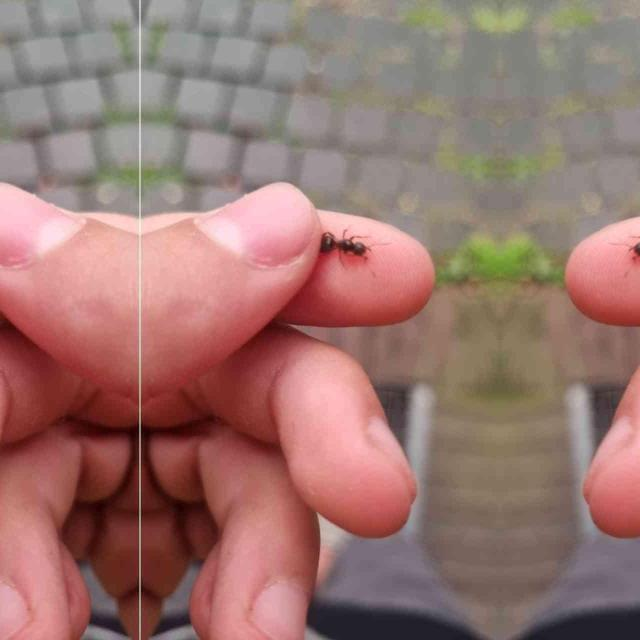Lasius: (316, 227, 380, 269), (620, 227, 640, 269)
